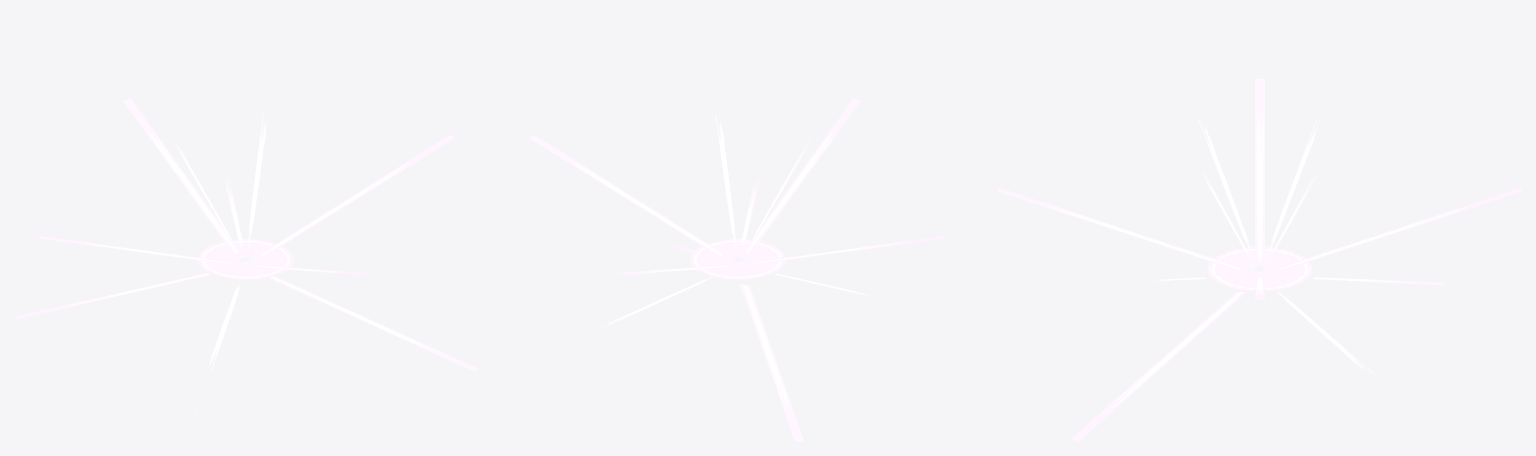
File: sfx_mura_classic_attack1.glb
The picture shows the model from 3 angles, left to right: view 1: azimuth 30°, elevation 25°; view 2: azimuth 150°, elevation 25°; view 3: azimuth 270°, elevation 25°; orthographic projection. The views are drawn at different scales.
Visible parts, largest first — view 1: sfx_mura_classic_attack1_obj0, sfx_mura_classic_attack1_obj10, sfx_mura_classic_attack1_obj7, sfx_mura_classic_attack1_obj12, sfx_mura_classic_attack1_obj14, sfx_mura_classic_attack1_obj4, sfx_mura_classic_attack1_obj9, sfx_mura_classic_attack1_obj13; view 2: sfx_mura_classic_attack1_obj0, sfx_mura_classic_attack1_obj14, sfx_mura_classic_attack1_obj8, sfx_mura_classic_attack1_obj7, sfx_mura_classic_attack1_obj5, sfx_mura_classic_attack1_obj9; view 3: sfx_mura_classic_attack1_obj0, sfx_mura_classic_attack1_obj9, sfx_mura_classic_attack1_obj12, sfx_mura_classic_attack1_obj8, sfx_mura_classic_attack1_obj10, sfx_mura_classic_attack1_obj6, sfx_mura_classic_attack1_obj3.
Part boxes in pixels (box(x1,y1,x2,y2)): sfx_mura_classic_attack1_obj0: box(179, 231, 312, 287); sfx_mura_classic_attack1_obj10: box(123, 98, 240, 253); sfx_mura_classic_attack1_obj7: box(260, 135, 454, 256); sfx_mura_classic_attack1_obj12: box(225, 254, 477, 371); sfx_mura_classic_attack1_obj14: box(14, 259, 266, 319); sfx_mura_classic_attack1_obj4: box(246, 54, 274, 257); sfx_mura_classic_attack1_obj9: box(38, 235, 231, 264); sfx_mura_classic_attack1_obj13: box(194, 285, 239, 413); sfx_mura_classic_attack1_obj0: box(671, 231, 804, 287); sfx_mura_classic_attack1_obj14: box(728, 250, 803, 441); sfx_mura_classic_attack1_obj8: box(743, 98, 860, 253); sfx_mura_classic_attack1_obj7: box(529, 135, 723, 256); sfx_mura_classic_attack1_obj5: box(709, 54, 736, 256); sfx_mura_classic_attack1_obj9: box(752, 235, 945, 264); sfx_mura_classic_attack1_obj0: box(1206, 246, 1313, 291); sfx_mura_classic_attack1_obj9: box(1255, 78, 1264, 260); sfx_mura_classic_attack1_obj12: box(1071, 260, 1278, 441); sfx_mura_classic_attack1_obj8: box(998, 187, 1239, 271); sfx_mura_classic_attack1_obj10: box(1280, 187, 1521, 271); sfx_mura_classic_attack1_obj6: box(1177, 57, 1254, 260); sfx_mura_classic_attack1_obj3: box(1265, 56, 1342, 261).
Bounding box in the file's own units: 3.12 × 2 × 3.12.
Materials: 3 (3 with a texture image).
